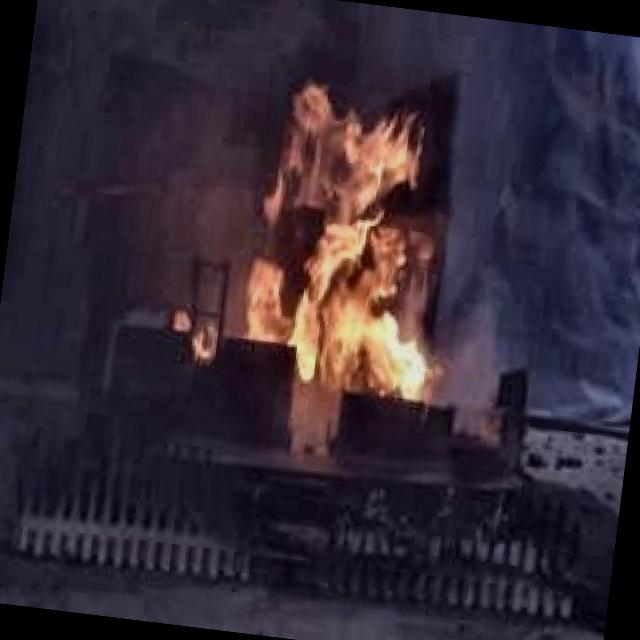fire: (223, 84, 464, 419)
